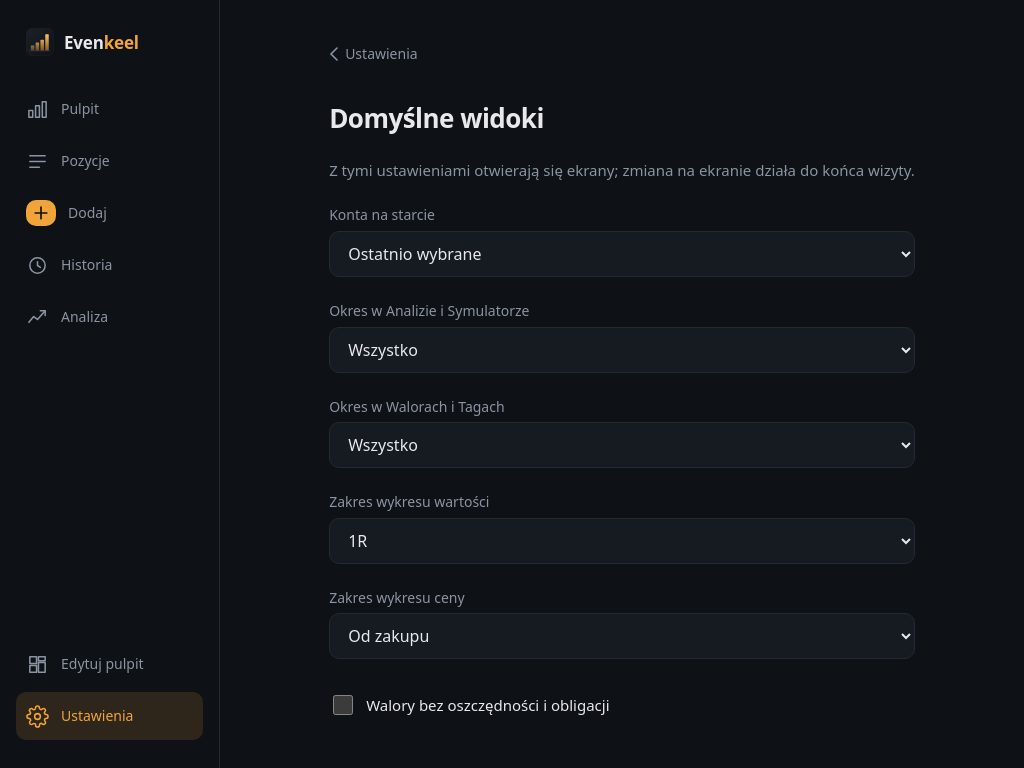
Scenario: default views › are saved on their page
Select "Od pocz. roku" in the dropdown labelled "Okres w Analizie i Symulatorze" at (622, 350), box [329,327,915,373]
(page scrolled)
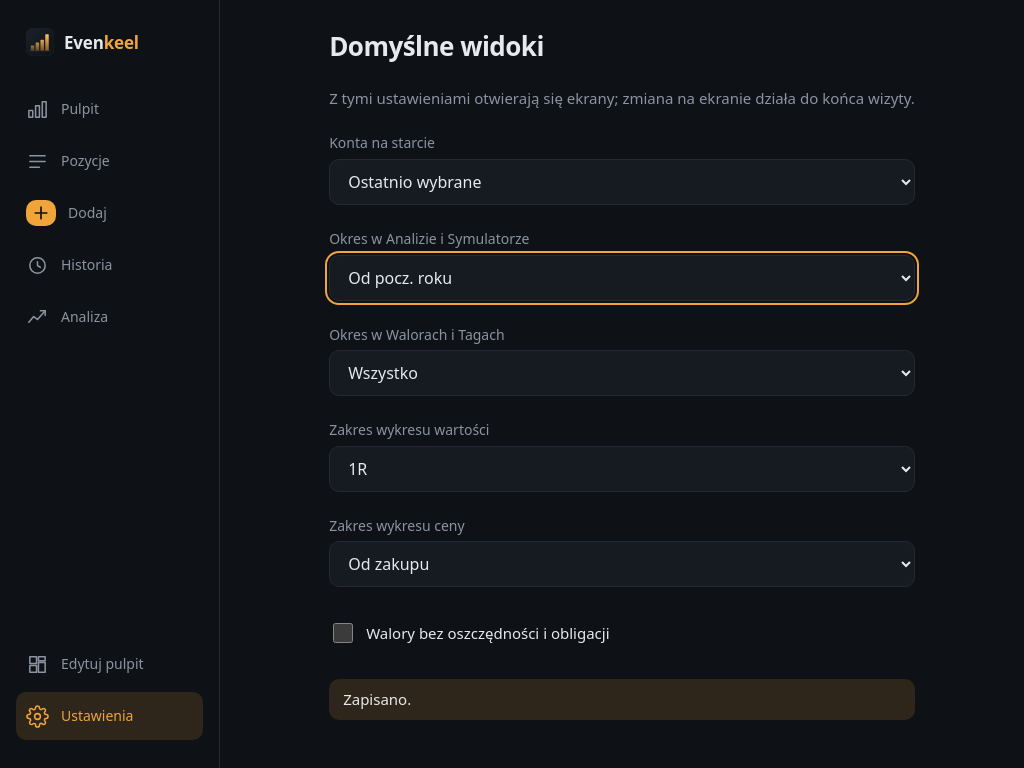
Expected: the message reads "Zapisano.", [343,689,411,709]
